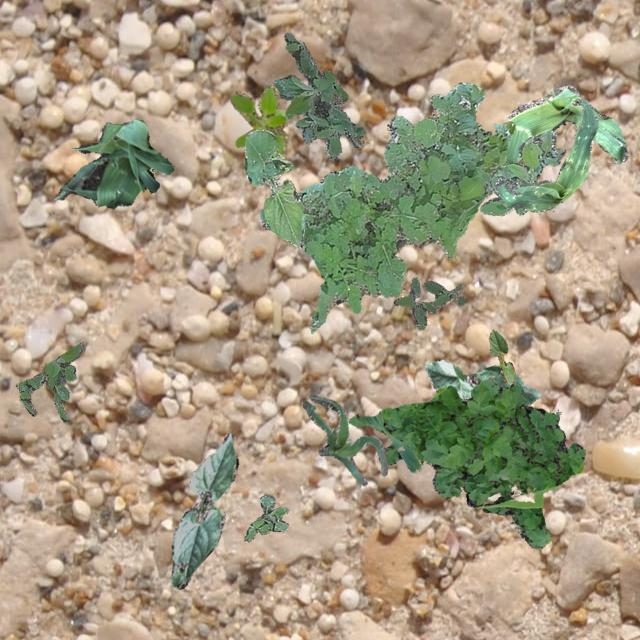crop: (494, 98, 598, 210), (51, 118, 172, 208), (170, 432, 238, 588), (502, 84, 626, 164), (302, 394, 386, 484), (243, 128, 304, 248), (424, 358, 540, 406), (488, 328, 514, 384)
weed: (258, 81, 514, 332), (348, 378, 584, 548), (263, 32, 365, 160), (480, 130, 564, 214), (15, 342, 84, 422), (230, 84, 288, 154), (392, 276, 464, 328), (242, 494, 288, 540)
